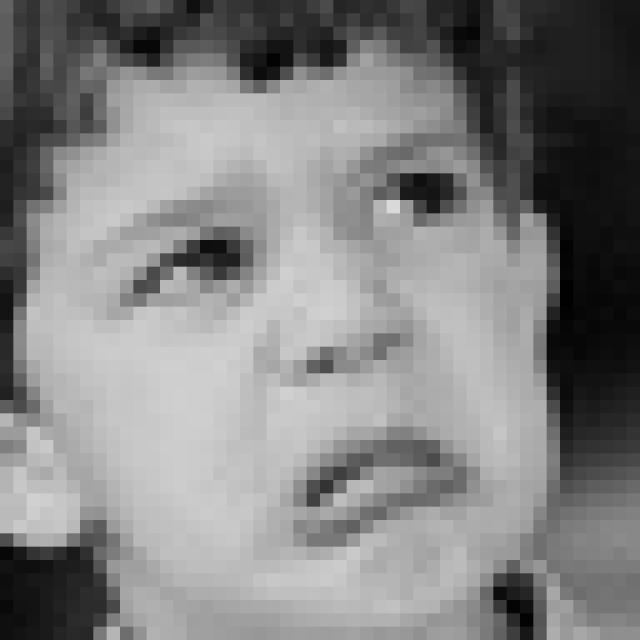sad: (84, 120, 486, 560)
